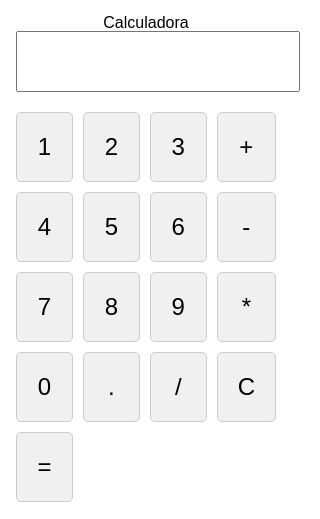
Scenario: Calculator Component › handles all operator buttons
Click the button "+" at [246, 147], box [217,112,276,182]
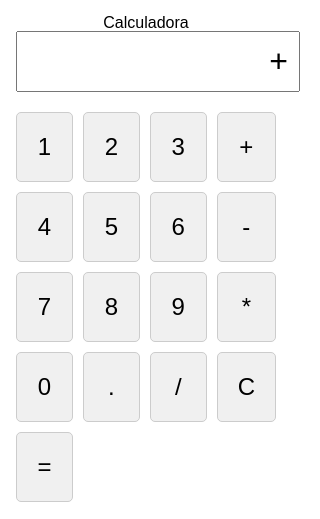
Click the button "-" at [246, 227], box [217,192,276,262]
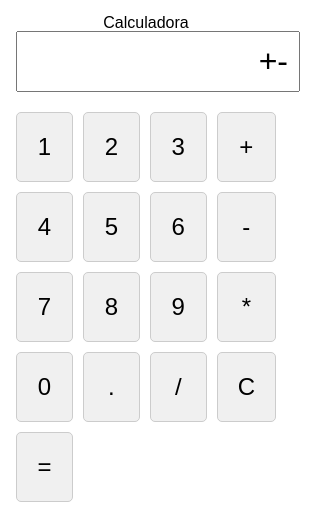
Click the button "*" at [246, 307], box [217,272,276,342]
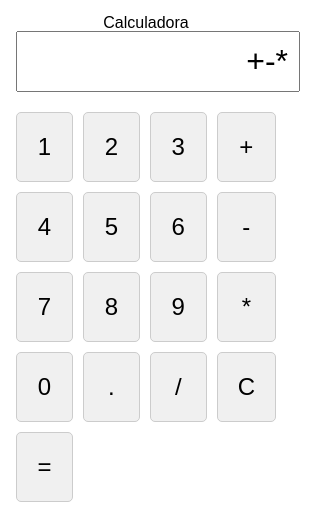
Click the button "/" at [178, 387], box [150,352,207,422]
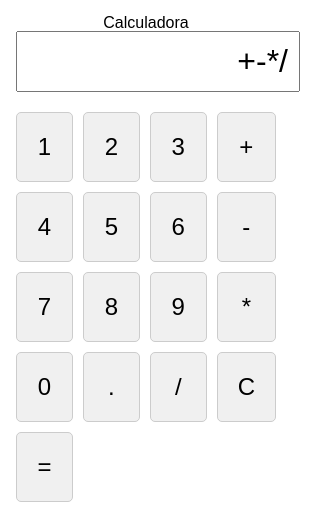
Expected: the field holds "+-*/", [16,31,300,92]
